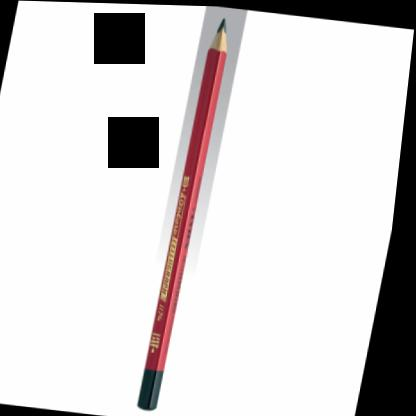pencil: (142, 13, 229, 413)
